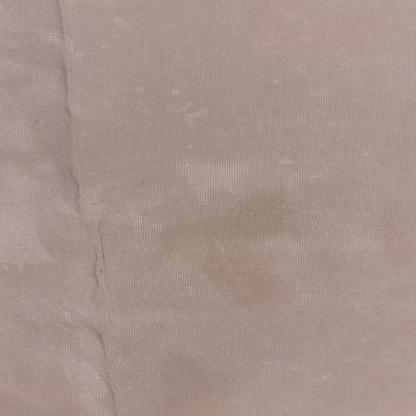spot: (138, 181, 294, 300), (2, 153, 58, 272), (172, 156, 247, 198), (49, 184, 119, 222), (62, 359, 115, 406), (1, 115, 42, 147), (50, 29, 84, 66), (174, 98, 213, 126), (308, 86, 346, 102), (272, 147, 297, 171), (179, 136, 201, 154), (111, 15, 136, 29), (171, 86, 184, 96)
